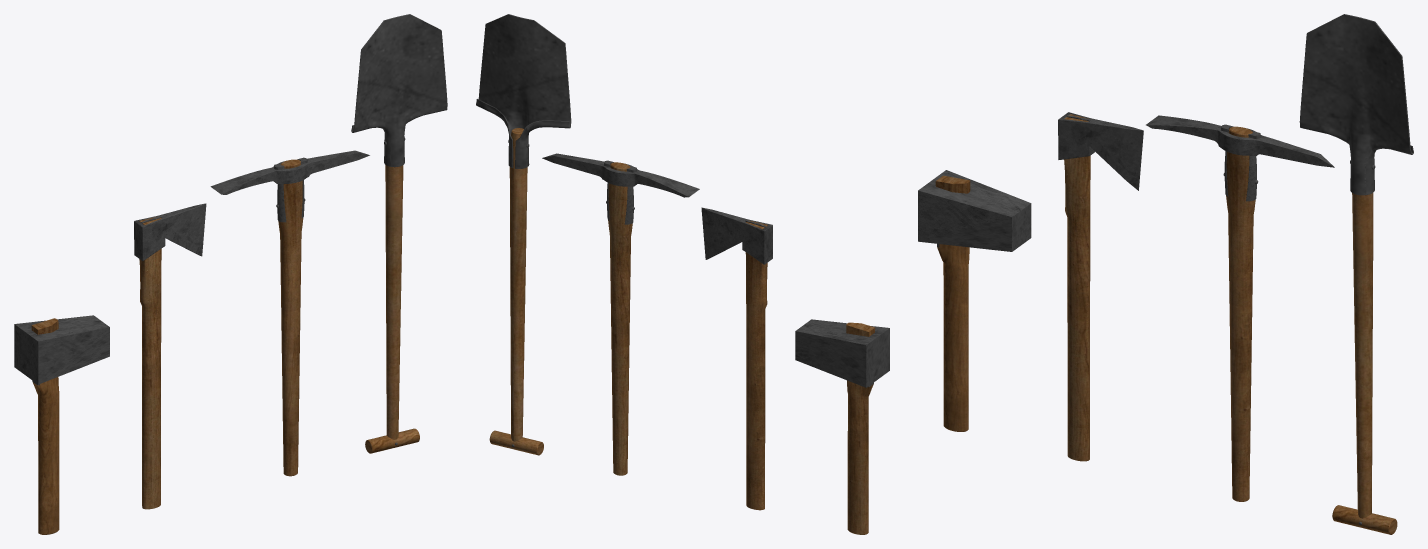
The model's file is Utils_Melee.fbx.
The picture shows the model from 3 angles, left to right: view 1: azimuth 30°, elevation 25°; view 2: azimuth 150°, elevation 25°; view 3: azimuth 330°, elevation 25°; orthographic projection. The views are drawn at different scales.
Parts seen in each view (by area): view 1: Schippe.001, Beielklinge, Axt long.002, Axt; view 2: Schippe.001, Beielklinge, Axt long.002, Axt; view 3: Schippe.001, Beielklinge, Axt long.002, Axt.
Boxes of the visible parts, bbox=[...] form: Schippe.001: bbox=[351, 14, 447, 453]; Beielklinge: bbox=[14, 315, 109, 534]; Axt long.002: bbox=[210, 150, 369, 476]; Axt: bbox=[134, 203, 206, 509]; Schippe.001: bbox=[476, 14, 571, 455]; Beielklinge: bbox=[795, 319, 889, 534]; Axt long.002: bbox=[542, 153, 699, 475]; Axt: bbox=[701, 207, 772, 510]; Schippe.001: bbox=[1299, 14, 1413, 534]; Beielklinge: bbox=[918, 170, 1031, 431]; Axt long.002: bbox=[1146, 115, 1334, 501]; Axt: bbox=[1058, 112, 1143, 461].
Bounding box in the file's own units: 1.2 × 0.12 × 1.2.
2 materials, 2 textured.
